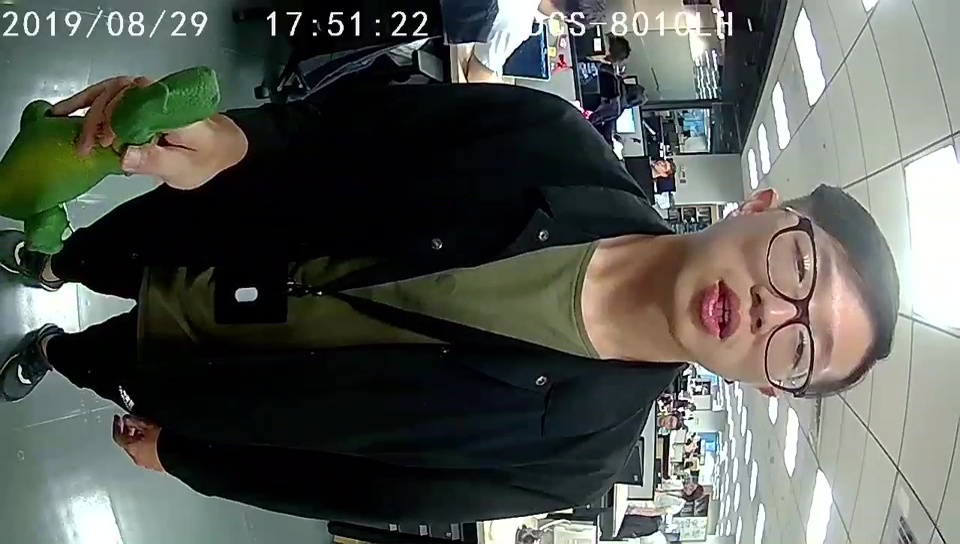rex: (3, 66, 219, 257)
